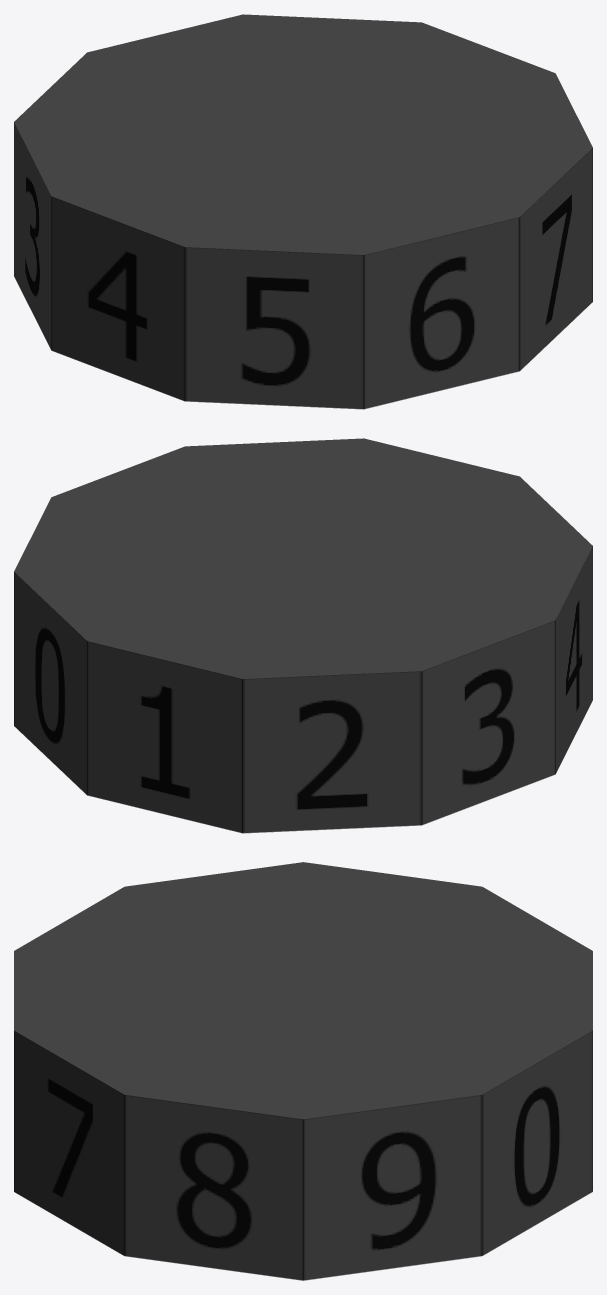
File: RuedaNumerica01.fbx
3 renders of one model, top to bottom at view 1: azimuth 30°, elevation 25°; view 2: azimuth 150°, elevation 25°; view 3: azimuth 270°, elevation 25°, orthographic. The views are drawn at different scales.
Visible parts, largest first — view 1: RuedaNumerica01; view 2: RuedaNumerica01; view 3: RuedaNumerica01.
Part boxes in pixels (box(x1,y1,x2,y2)): RuedaNumerica01: box(14, 14, 592, 409); RuedaNumerica01: box(14, 438, 592, 833); RuedaNumerica01: box(14, 862, 592, 1280).
Size of the model in its own units: 4.04 by 1.18 by 3.84.
